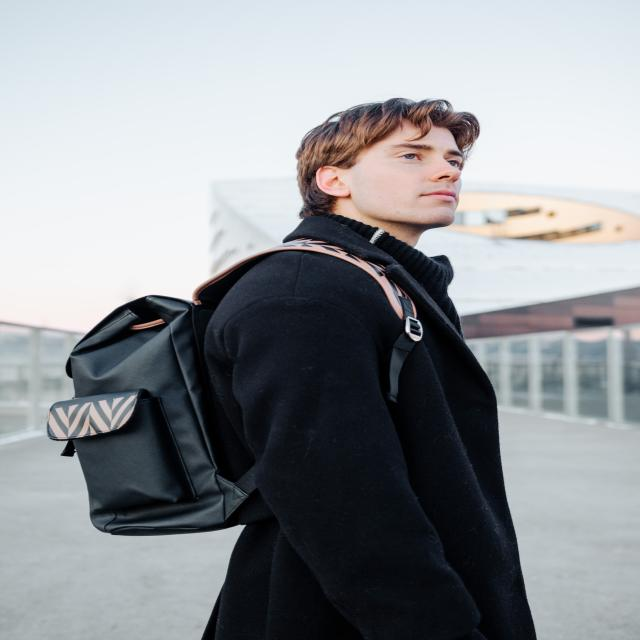backpack: (25, 237, 419, 543)
